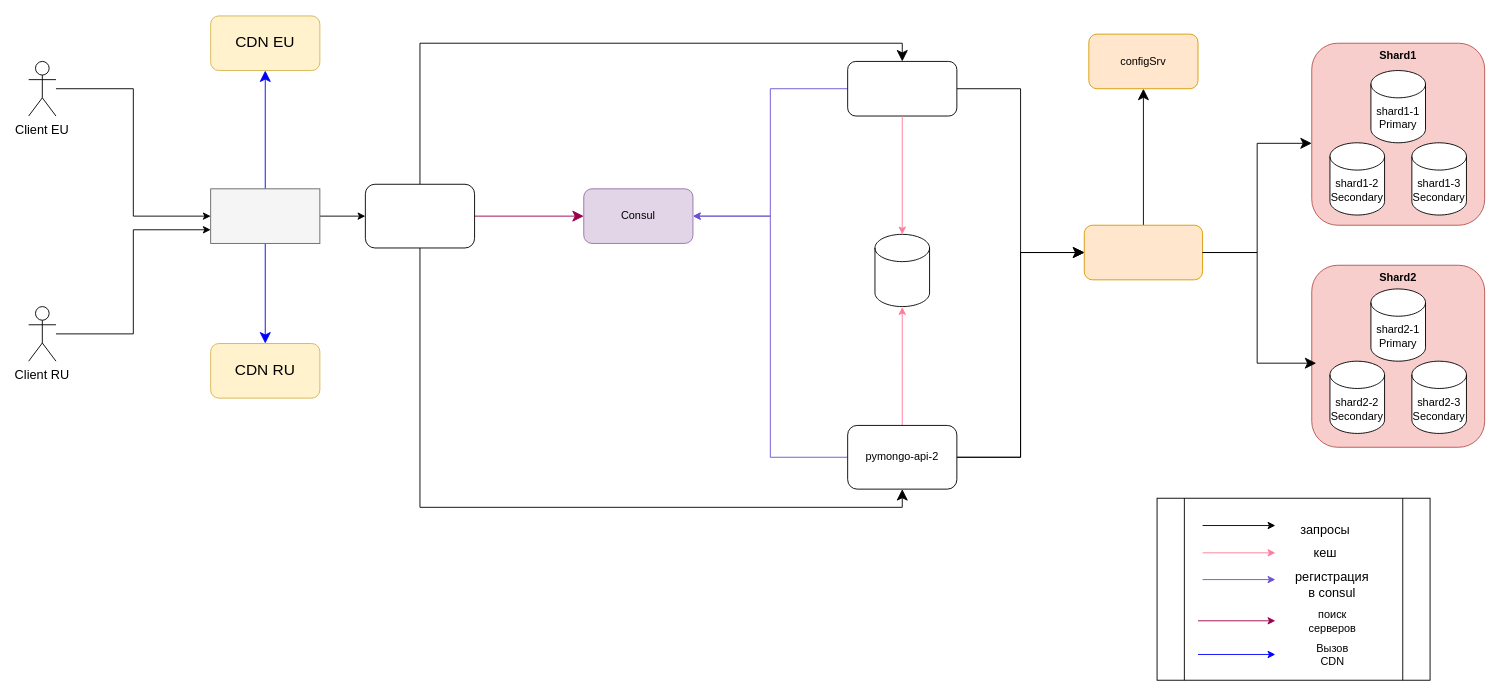
The diagram is 1502 pixels wide and 696 high, and some of its shapes have lost their labels. Here are the shapes that lost their labels. From the top down, the box of each, then its label:
(847, 61, 957, 116): pymongo-api-1
(210, 188, 320, 243): Site React/Nginx
(364, 183, 475, 248): API Gateway
(874, 233, 930, 307): redis cash
(1083, 224, 1203, 280): Mongo Router (mongos)
